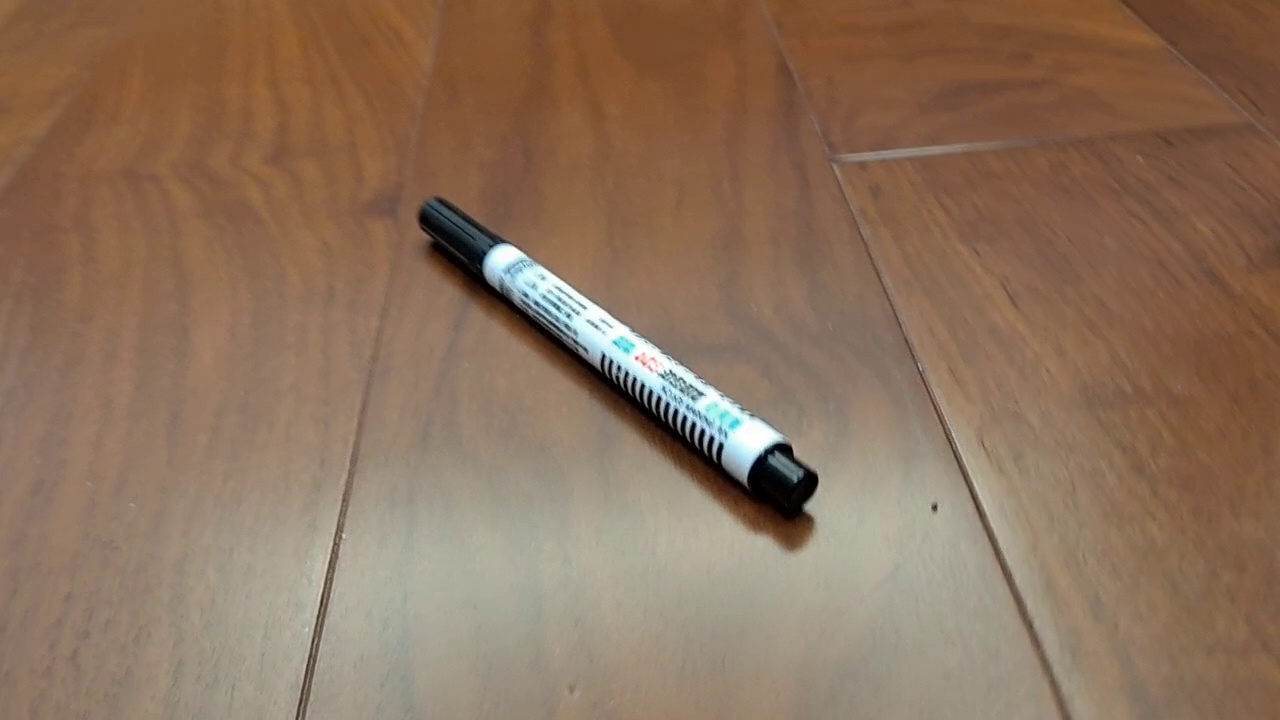pen: (416, 194, 820, 514)
